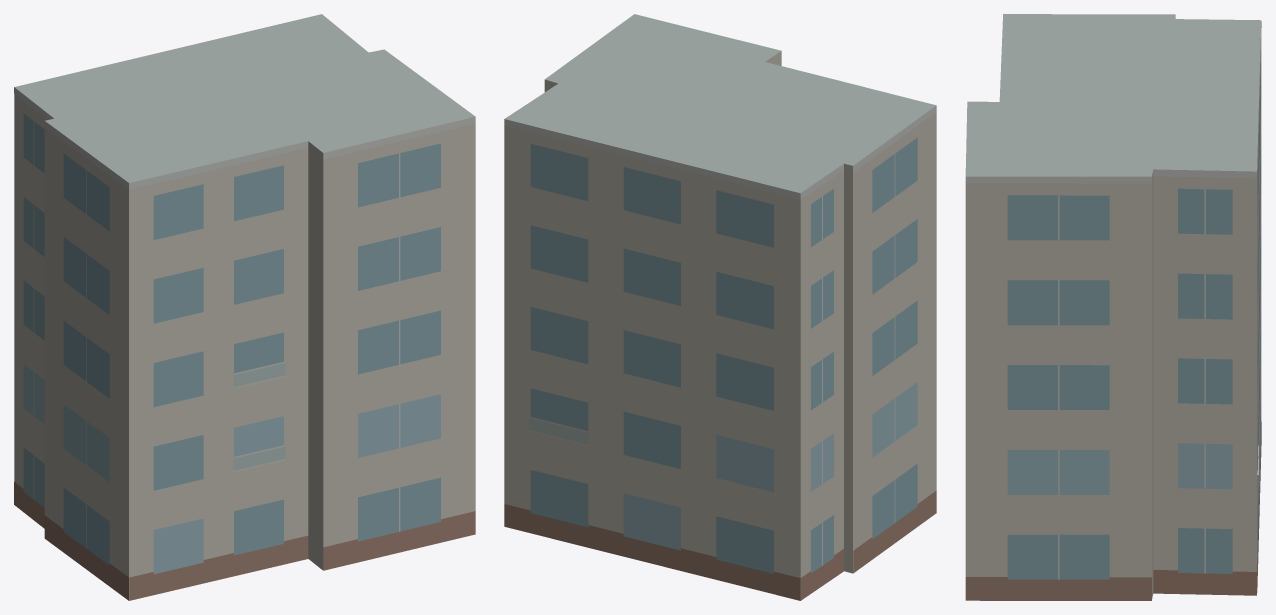
File: survey-upis-32768000.glb
3 views of the same model, side by side, from view 1: azimuth 30°, elevation 25°; view 2: azimuth 150°, elevation 25°; view 3: azimuth 270°, elevation 25° (orthographic). The views are drawn at different scales.
Visible parts, largest first — view 1: survey-upis-32768000.tmp; view 2: survey-upis-32768000.tmp; view 3: survey-upis-32768000.tmp.
Boxes of the visible parts, x1,y1,x2,y2 form: survey-upis-32768000.tmp: (14, 14, 475, 600); survey-upis-32768000.tmp: (504, 14, 936, 600); survey-upis-32768000.tmp: (965, 14, 1261, 600).
Size of the model in its own units: 12.56 by 15.25 by 9.65.
